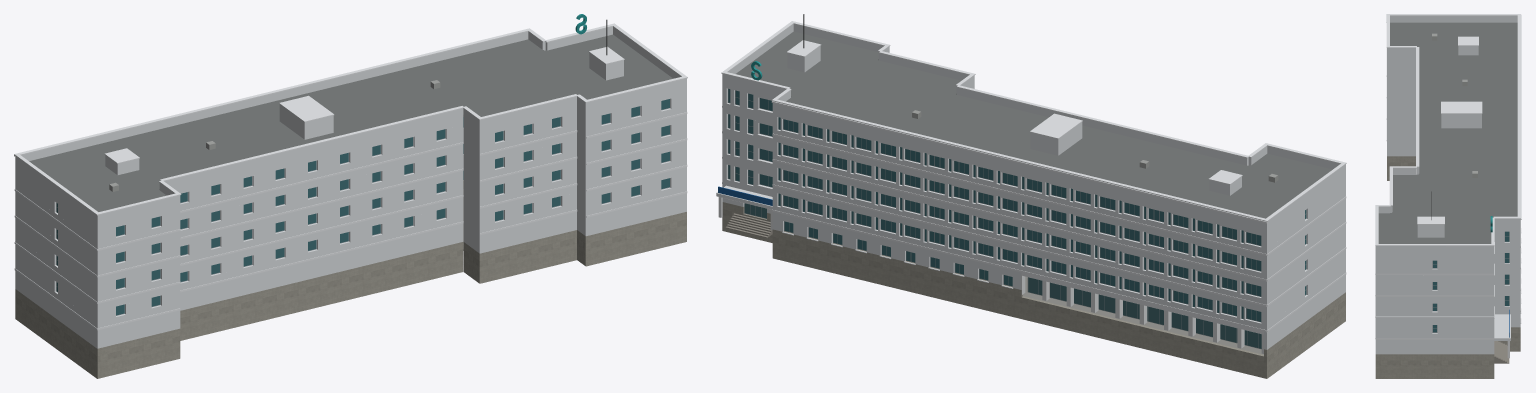
The picture shows the model from 3 angles, left to right: view 1: azimuth 30°, elevation 25°; view 2: azimuth 150°, elevation 25°; view 3: azimuth 270°, elevation 25°; orthographic projection. The views are drawn at different scales.
Visible parts, largest first — view 1: w451562708__panel-wall, w451562708__roof, w451562708__plinth-wall, w451562708__trim, w451562708__glass, w451562708__frame; view 2: w451562708__panel-wall, w451562708__roof, w451562708__glass, w451562708__plinth-wall, w451562708__trim, w451562708__frame, w451562708__door-glass, w451562708__column, w451562708__floor-slab, w451562708__stone-step; view 3: w451562708__roof, w451562708__panel-wall, w451562708__trim, w451562708__plinth-wall, w451562708__glass, w451562708__stone-step, w451562708__frame.
Boxes of the visible parts, bbox=[...] form: w451562708__panel-wall: bbox=[15, 26, 686, 348]; w451562708__roof: bbox=[29, 34, 672, 211]; w451562708__plinth-wall: bbox=[15, 180, 686, 378]; w451562708__trim: bbox=[14, 23, 687, 330]; w451562708__glass: bbox=[56, 99, 669, 315]; w451562708__frame: bbox=[56, 99, 670, 315]; w451562708__panel-wall: bbox=[716, 24, 1345, 349]; w451562708__roof: bbox=[736, 31, 1332, 218]; w451562708__glass: bbox=[728, 89, 1306, 321]; w451562708__plinth-wall: bbox=[722, 202, 1345, 378]; w451562708__trim: bbox=[721, 21, 1346, 334]; w451562708__frame: bbox=[728, 89, 1306, 349]; w451562708__door-glass: bbox=[744, 203, 1261, 348]; w451562708__column: bbox=[718, 197, 1263, 353]; w451562708__floor-slab: bbox=[1023, 276, 1263, 354]; w451562708__stone-step: bbox=[725, 213, 772, 237]; w451562708__roof: bbox=[1378, 22, 1517, 243]; w451562708__panel-wall: bbox=[1375, 16, 1520, 354]; w451562708__trim: bbox=[1375, 14, 1521, 339]; w451562708__plinth-wall: bbox=[1375, 156, 1520, 378]; w451562708__glass: bbox=[1433, 231, 1509, 332]; w451562708__stone-step: bbox=[1494, 341, 1509, 363]; w451562708__frame: bbox=[1432, 232, 1509, 332].
Size of the model in its own units: 80.96 by 27.6 by 21.65.
15 materials, 1 textured.
